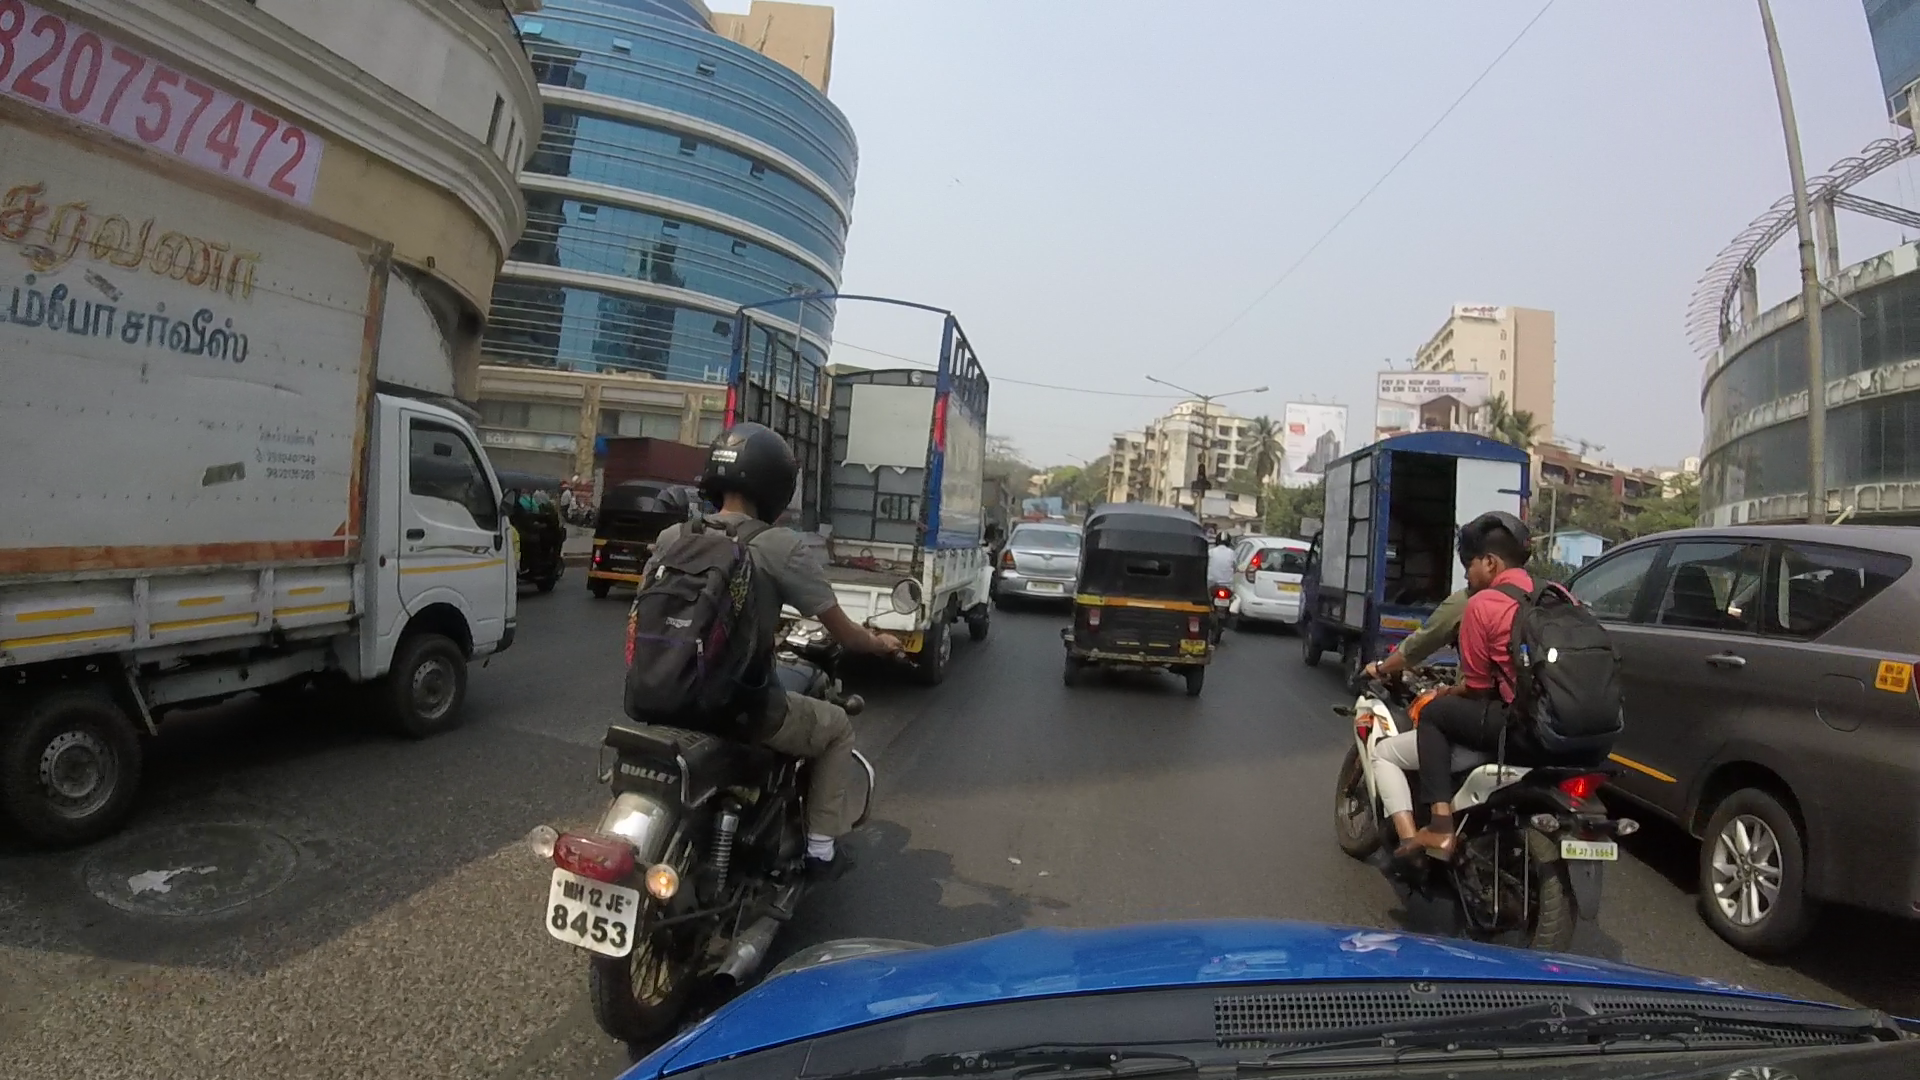bike/scooter: (498, 413, 872, 981), (1345, 516, 1671, 934)
car: (1575, 504, 1920, 953)
rickshaw: (1039, 475, 1242, 702)
truck: (11, 92, 545, 855), (707, 262, 1011, 678), (1283, 407, 1536, 659)
